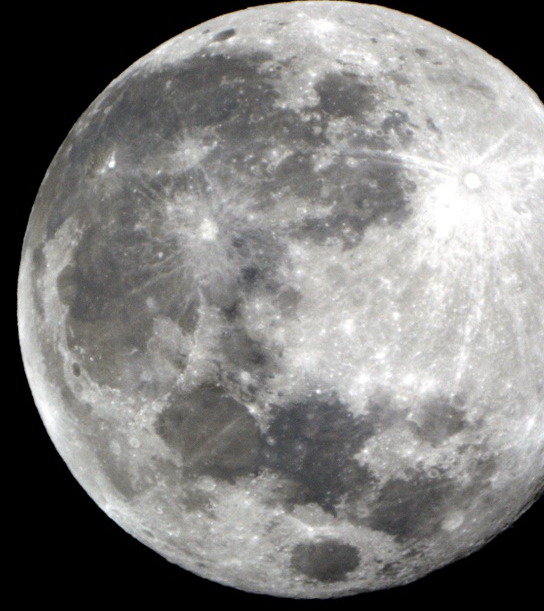crater: (334, 92, 535, 300), (154, 186, 251, 285), (288, 6, 391, 66), (419, 485, 488, 539), (158, 126, 217, 183), (95, 141, 130, 183), (185, 468, 224, 502), (61, 345, 89, 389), (228, 359, 264, 391), (95, 438, 128, 468), (120, 424, 146, 456), (246, 526, 266, 552), (192, 24, 214, 39)
